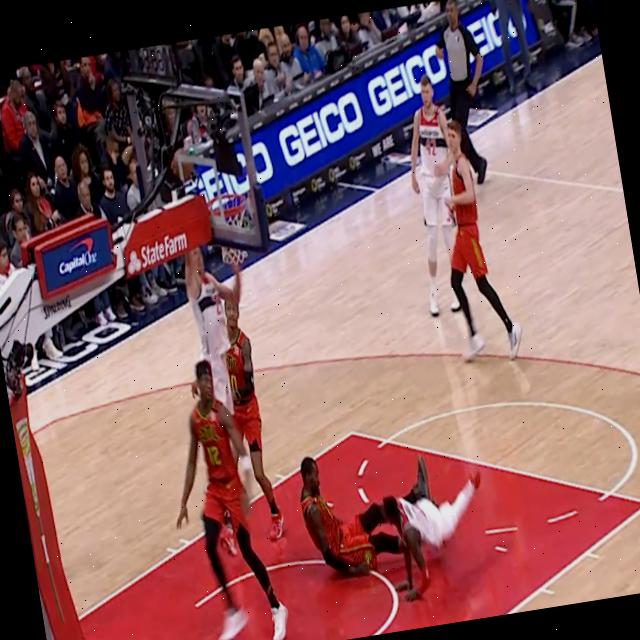foul: (278, 385, 534, 640)
no foul: (153, 251, 298, 640), (374, 61, 540, 388)
